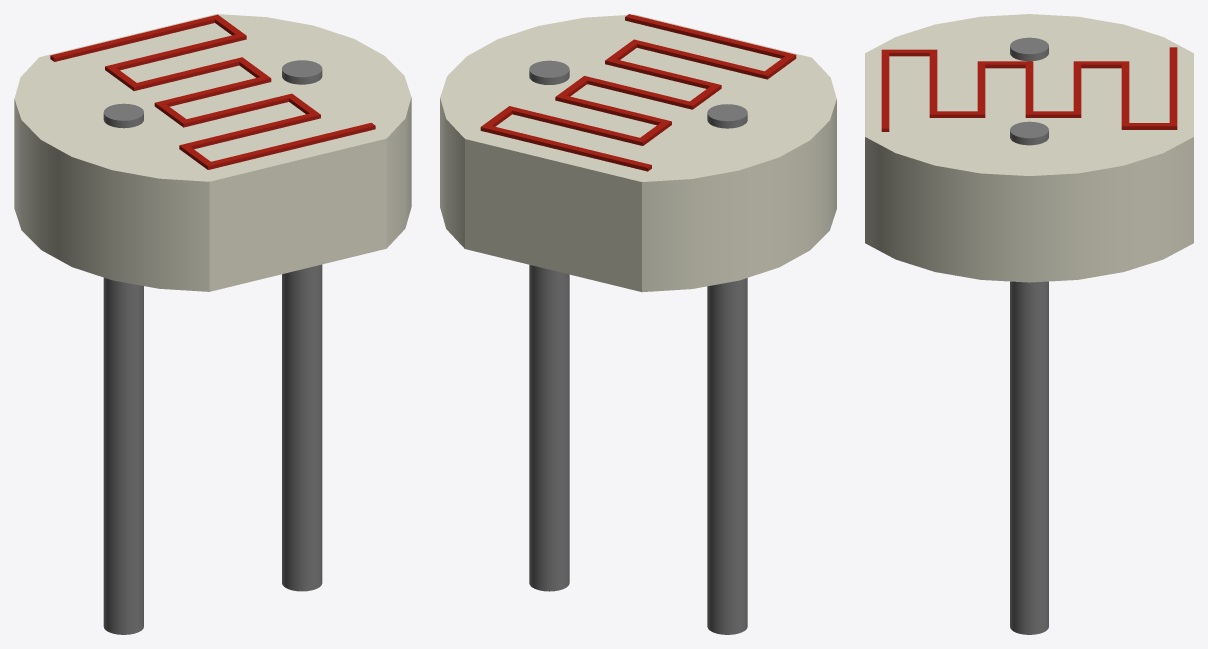
Rendered from OptoDevice__R_LDR_4.9x4.2mm_P2.54mm_Vertical.glb.
3 views of the same model, side by side, from view 1: azimuth 30°, elevation 25°; view 2: azimuth 150°, elevation 25°; view 3: azimuth 270°, elevation 25° (orthographic). The views are drawn at different scales.
Visible parts, largest first — view 1: R_LDR_4.9x4.2mm_P2.54mm_Vertical; view 2: R_LDR_4.9x4.2mm_P2.54mm_Vertical; view 3: R_LDR_4.9x4.2mm_P2.54mm_Vertical.
Part boxes in pixels (x1=…): R_LDR_4.9x4.2mm_P2.54mm_Vertical: x1=14, y1=14, x2=411, y2=634; R_LDR_4.9x4.2mm_P2.54mm_Vertical: x1=440, y1=14, x2=836, y2=634; R_LDR_4.9x4.2mm_P2.54mm_Vertical: x1=865, y1=14, x2=1193, y2=634.
Bounding box in the file's own units: 0.0049 × 0.007 × 0.0042.
